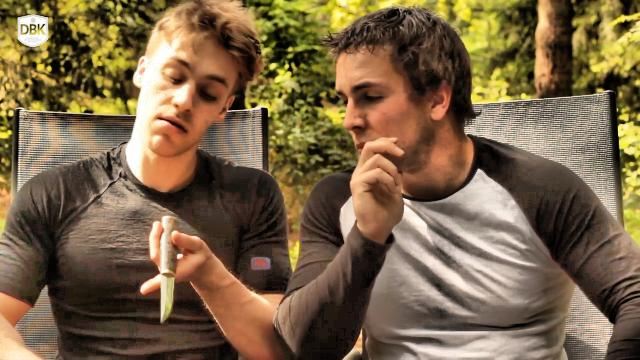knife: (137, 208, 199, 332)
